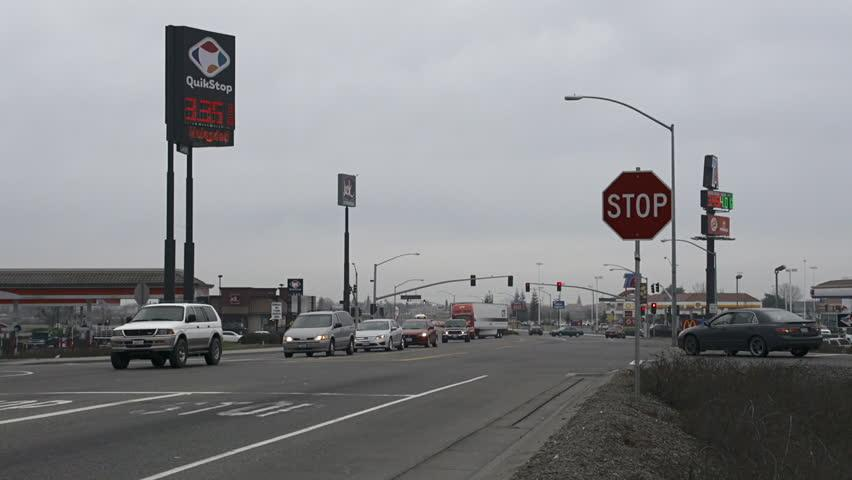bus: (449, 302, 510, 340)
car: (111, 302, 224, 370), (677, 307, 824, 357), (281, 310, 357, 358), (352, 318, 405, 352), (398, 319, 440, 348), (442, 319, 471, 343), (639, 323, 682, 339), (216, 329, 245, 345), (549, 325, 584, 338), (604, 326, 626, 339), (528, 324, 544, 336)
